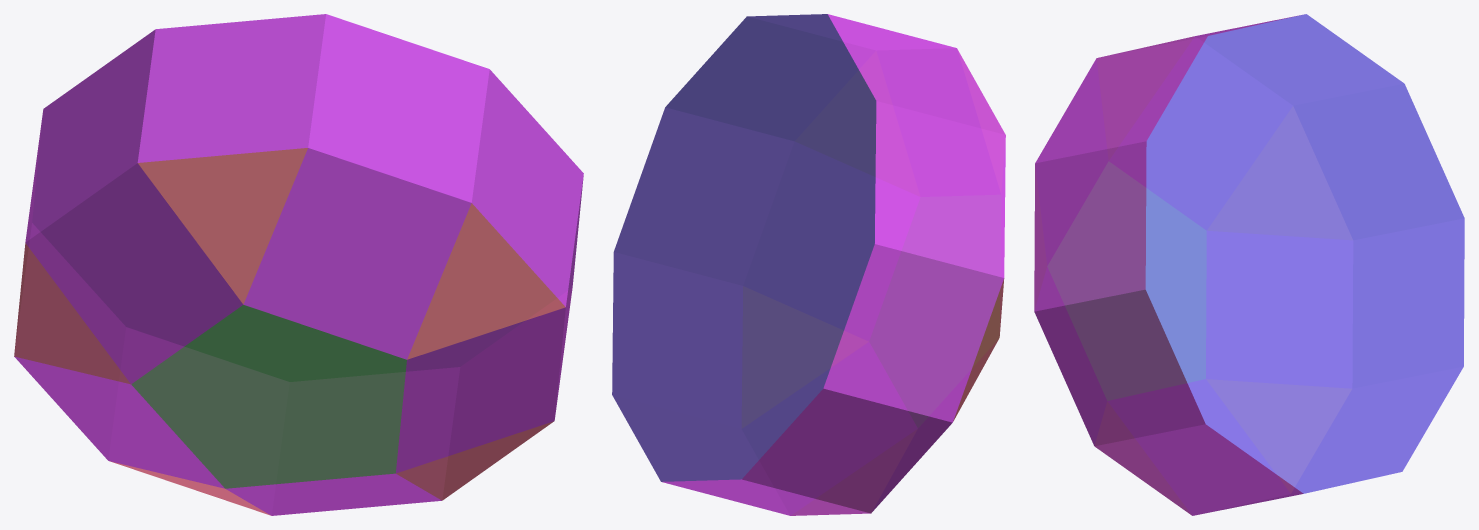
File: j20_elongated_pentagonal_cupola.obj
3 views of the same model, side by side, from view 1: azimuth 30°, elevation 25°; view 2: azimuth 150°, elevation 25°; view 3: azimuth 270°, elevation 25° (orthographic). The views are drawn at different scales.
Bounding box in the file's own units: 2.01 × 2.07 × 1.75.
